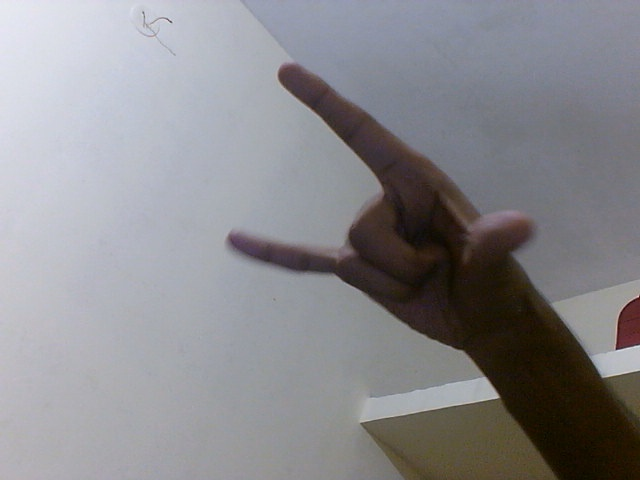hand: (222, 57, 544, 364)
